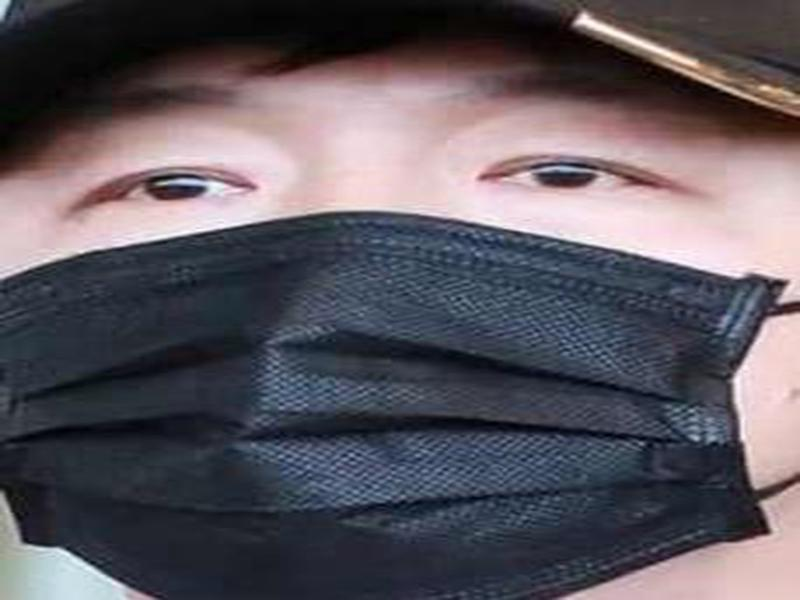with_mask: (1, 18, 799, 600)
